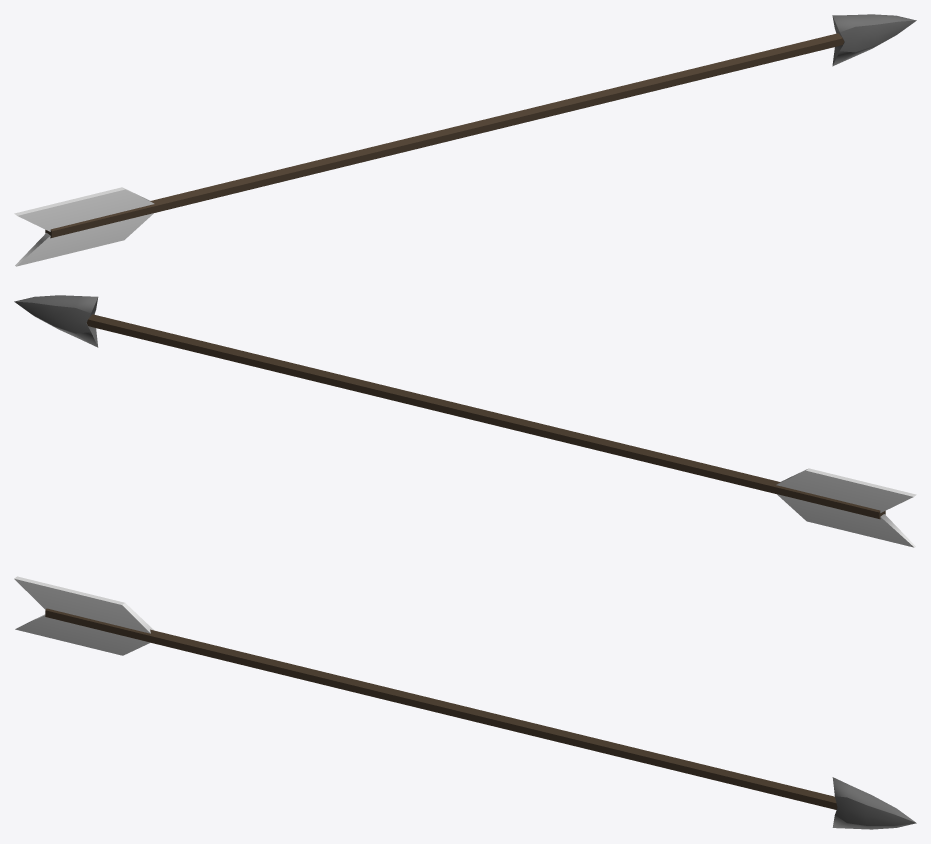
The model's file is newarrowmodelagain.fbx.
The picture shows the model from 3 angles, top to bottom: view 1: azimuth 30°, elevation 25°; view 2: azimuth 150°, elevation 25°; view 3: azimuth 330°, elevation 25°; orthographic projection.
Visible parts, largest first — view 1: pCylinder2; view 2: pCylinder2; view 3: pCylinder2.
Boxes of the visible parts, x1,y1,x2,y2 form: pCylinder2: (14,14,916,266); pCylinder2: (14,295,916,547); pCylinder2: (14,576,916,829).
Size of the model in its own units: 30.22 by 1.65 by 0.6886.
